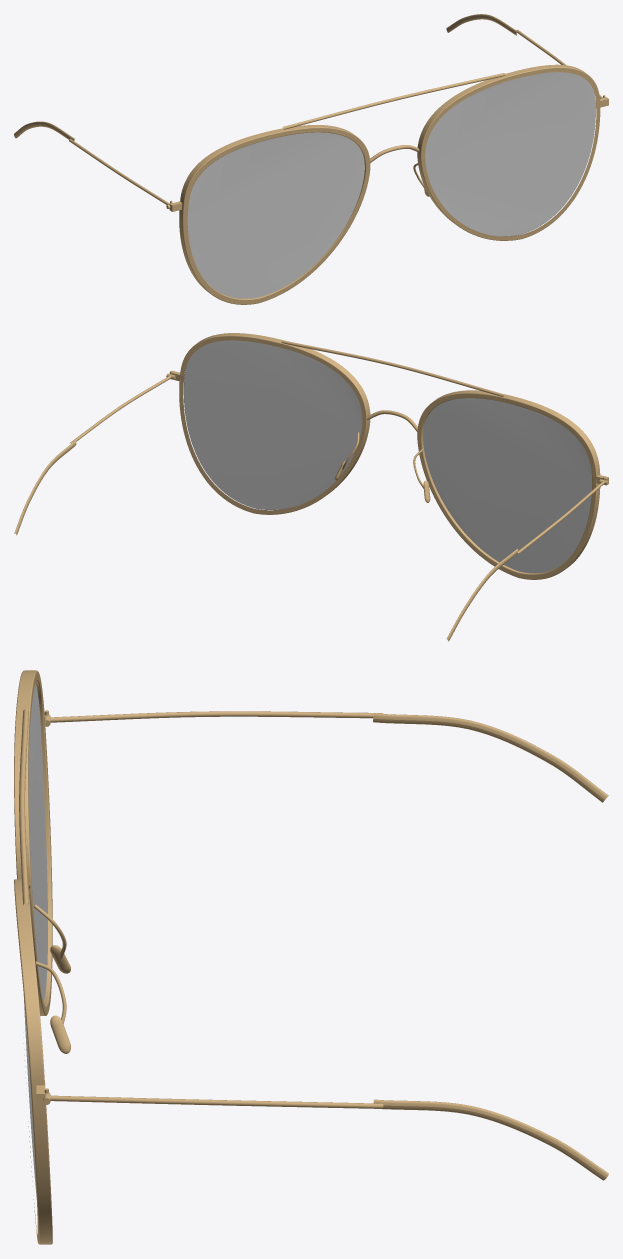
The model's file is solaris_a1.glb.
3 views of the same model, one above another, from view 1: azimuth 30°, elevation 25°; view 2: azimuth 150°, elevation 25°; view 3: azimuth 270°, elevation 25° (orthographic). The views are drawn at different scales.
Visible parts, largest first — view 1: SOLARIS_A1; view 2: SOLARIS_A1; view 3: SOLARIS_A1.
Part boxes in pixels (x1,y1,x2,y2): SOLARIS_A1: (14,14,608,304); SOLARIS_A1: (14,333,608,641); SOLARIS_A1: (14,670,608,1244).
Bounding box in the file's own units: 0.9393 × 0.3523 × 0.6013.
